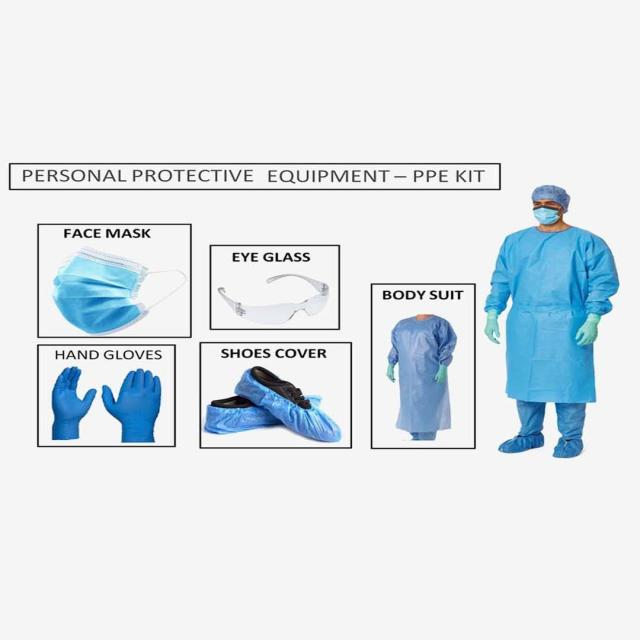Coverall: (488, 170, 630, 487), (382, 294, 481, 478)
Gloves: (41, 362, 172, 448)
Goggles: (212, 267, 340, 330)
Mask: (42, 246, 193, 340)
